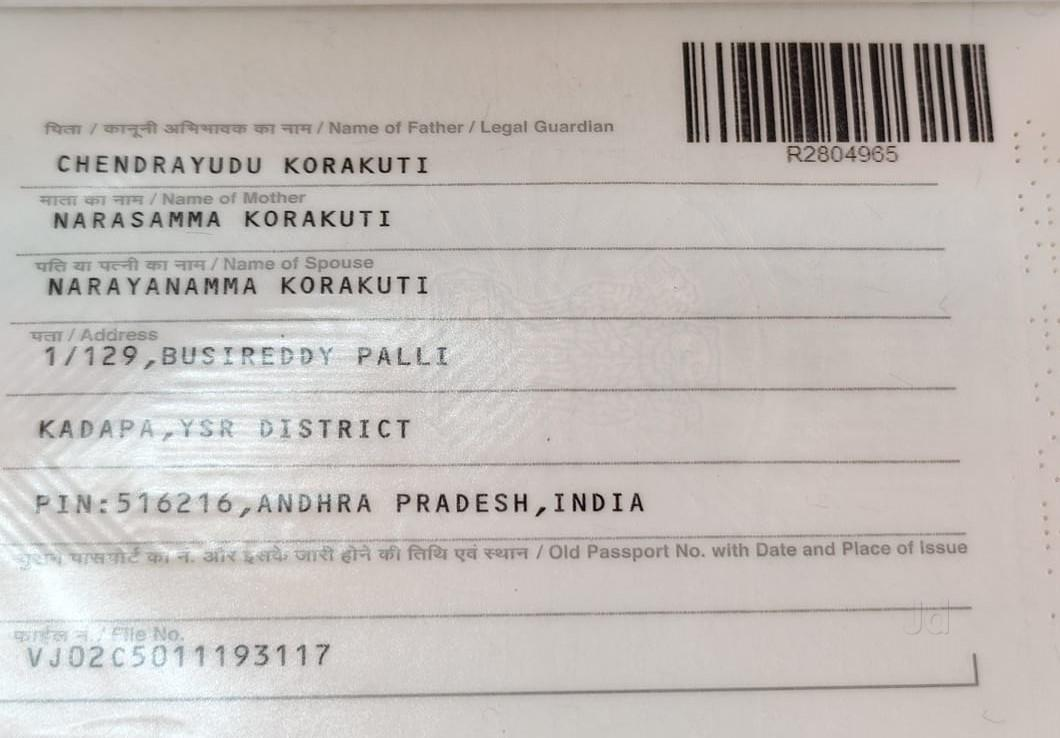File_no: (19, 641, 370, 674)
address: (10, 336, 686, 530)
father_name: (34, 134, 447, 187)
mother_name: (27, 199, 409, 246)
passport_no: (779, 134, 904, 177)
spouse_name: (40, 269, 465, 305)
